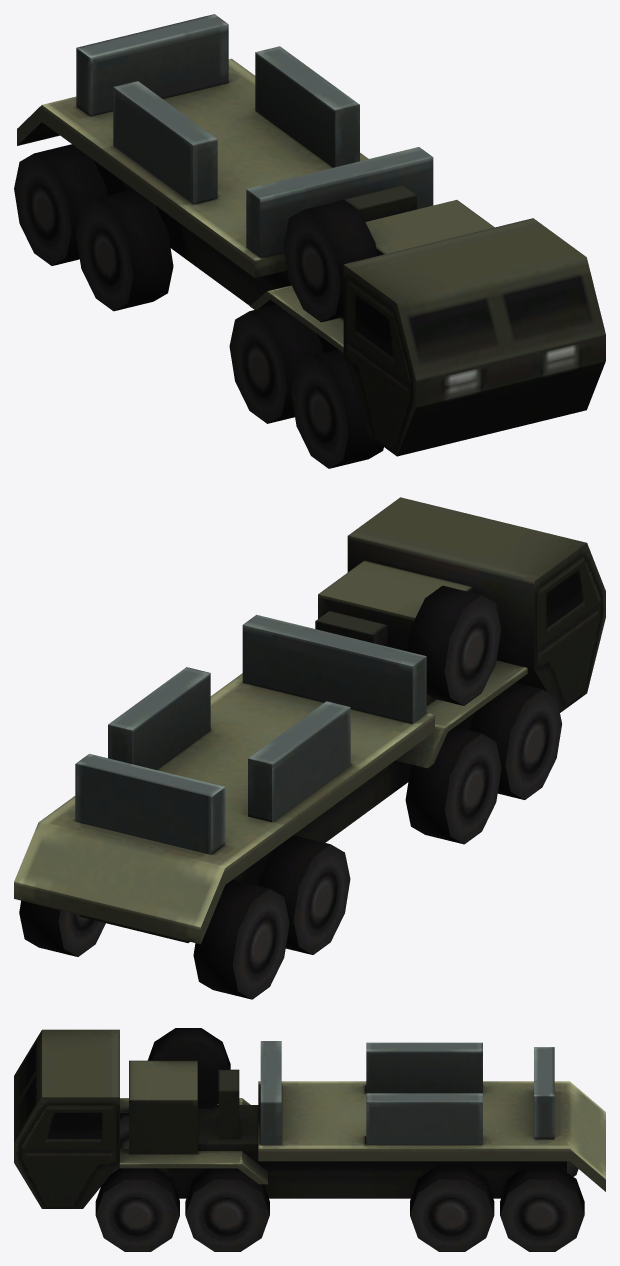
Rendered from HMMT_Wrecker.DAE.
3 renders of one model, top to bottom at view 1: azimuth 30°, elevation 25°; view 2: azimuth 150°, elevation 25°; view 3: azimuth 270°, elevation 25°, orthographic. The views are drawn at different scales.
Parts seen in each view (by area): view 1: _1129_HMMTWrecker; view 2: _1129_HMMTWrecker; view 3: _1129_HMMTWrecker.
Part boxes in pixels (bbox=[...]): _1129_HMMTWrecker: bbox=[14, 14, 605, 468]; _1129_HMMTWrecker: bbox=[14, 497, 605, 999]; _1129_HMMTWrecker: bbox=[14, 1028, 605, 1251].
Bounding box in the file's own units: 69.67 × 65.69 × 225.
1 material, 1 textured.
